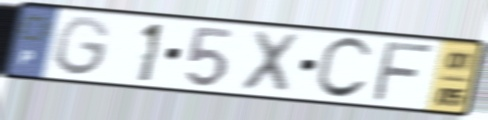1: (137, 21, 167, 83)
5: (180, 24, 240, 89)
C: (311, 35, 376, 102)
F: (368, 40, 441, 104)
G: (52, 14, 114, 79)
X: (235, 27, 305, 98)
